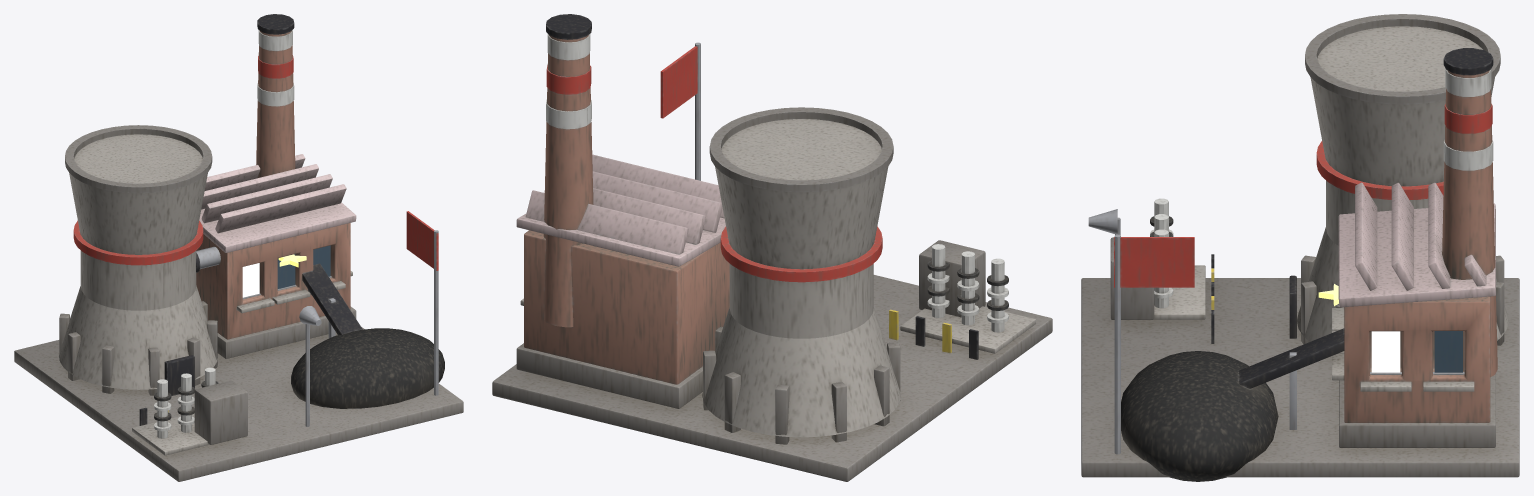
Rendered from red_power.glb.
The picture shows the model from 3 angles, left to right: view 1: azimuth 30°, elevation 25°; view 2: azimuth 150°, elevation 25°; view 3: azimuth 270°, elevation 25°; orthographic projection. The views are drawn at different scales.
Visible parts, largest first — view 1: Hull; view 2: Hull; view 3: Hull.
Part boxes in pixels (x1=…): Hull: x1=14, y1=14, x2=463, y2=481; Hull: x1=492, y1=14, x2=1052, y2=481; Hull: x1=1081, y1=14, x2=1519, y2=481.
Bounding box in the file's own units: 6.4 × 6.2 × 6.
14 materials, 14 textured.
